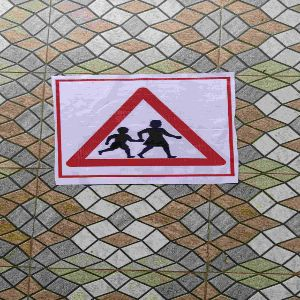schools: (57, 85, 234, 175)
